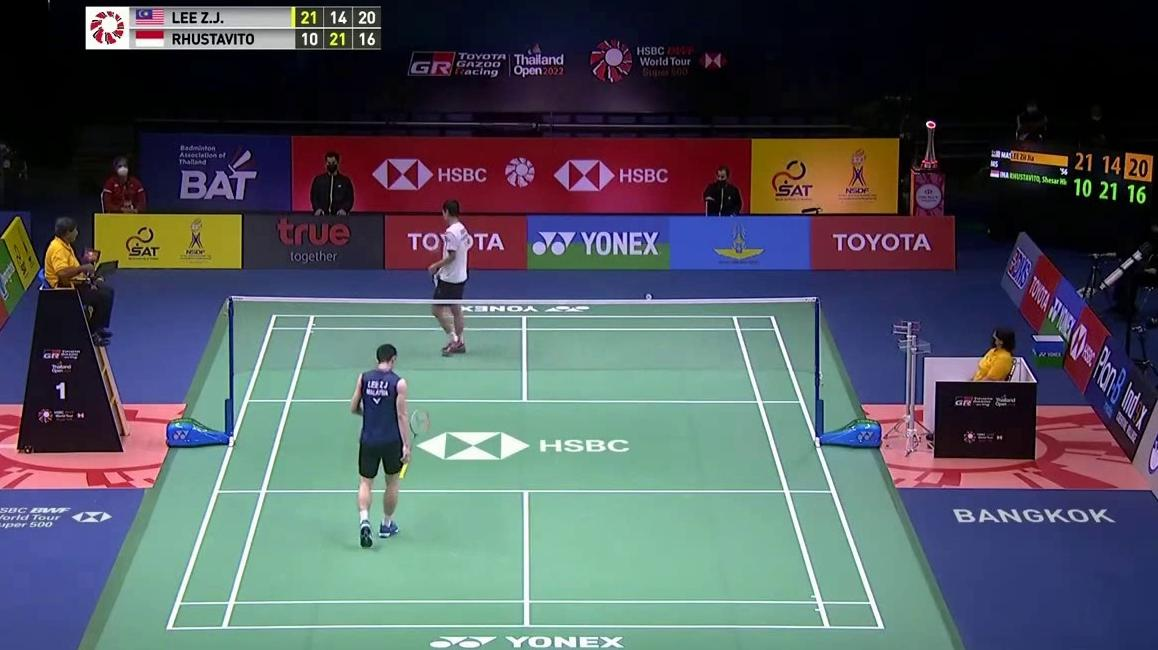racket: (397, 407, 432, 480), (429, 231, 447, 252)
shuttle: (644, 291, 655, 304)
